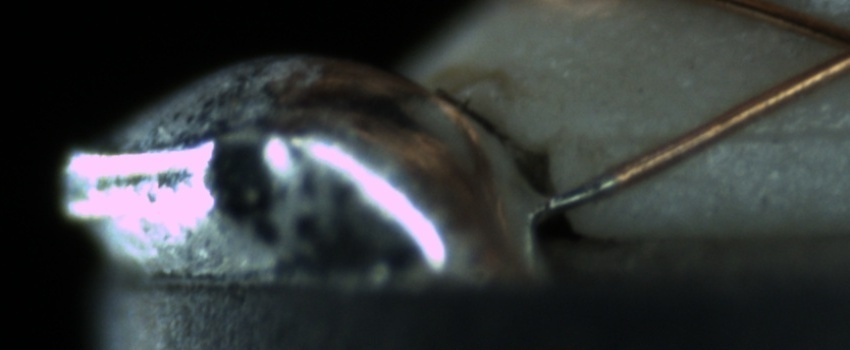CL: (804, 9, 850, 83)
DL: (621, 105, 849, 171)
TS: (546, 173, 619, 210)
